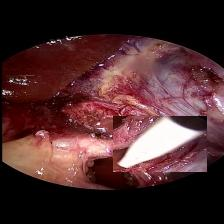Hook: (112, 116, 206, 172)
